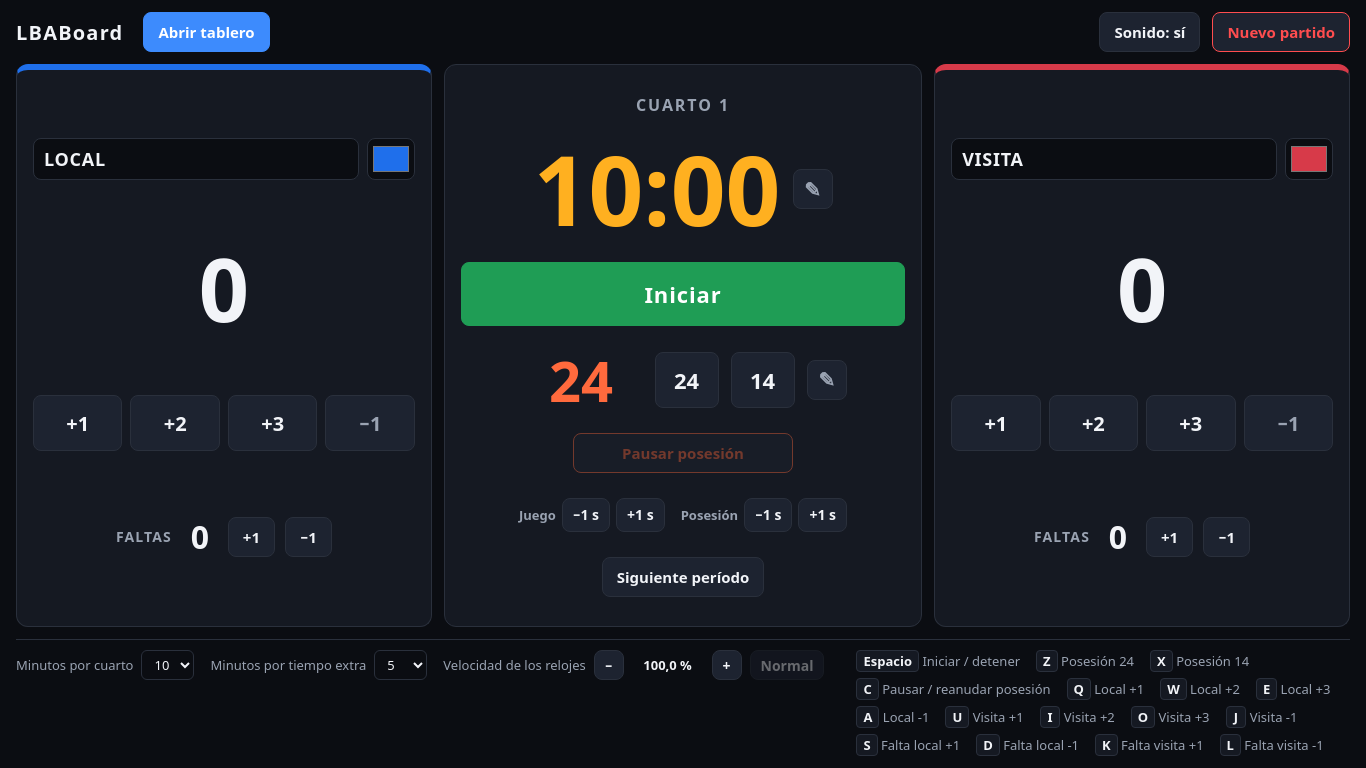
Test: Control › adjusts both clocks by a second only while stopped
The width and height of the screenshot is (1366, 768).
Click the button named "Juego −1 s": x=586, y=515 [562, 498, 610, 532]
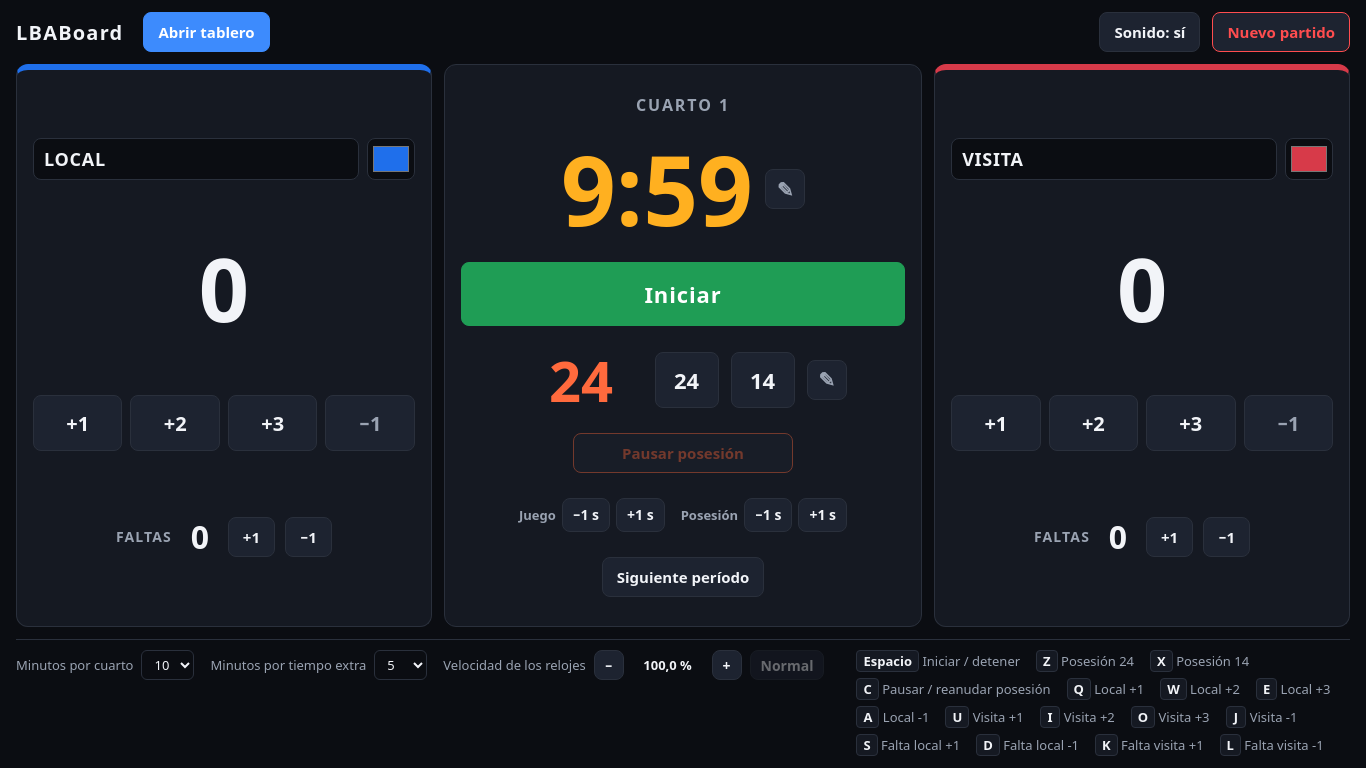
Check: the text "9:59" is shown, box [561, 141, 753, 237]
Click the button named "Posesión −1 s": x=768, y=515 [744, 498, 792, 532]
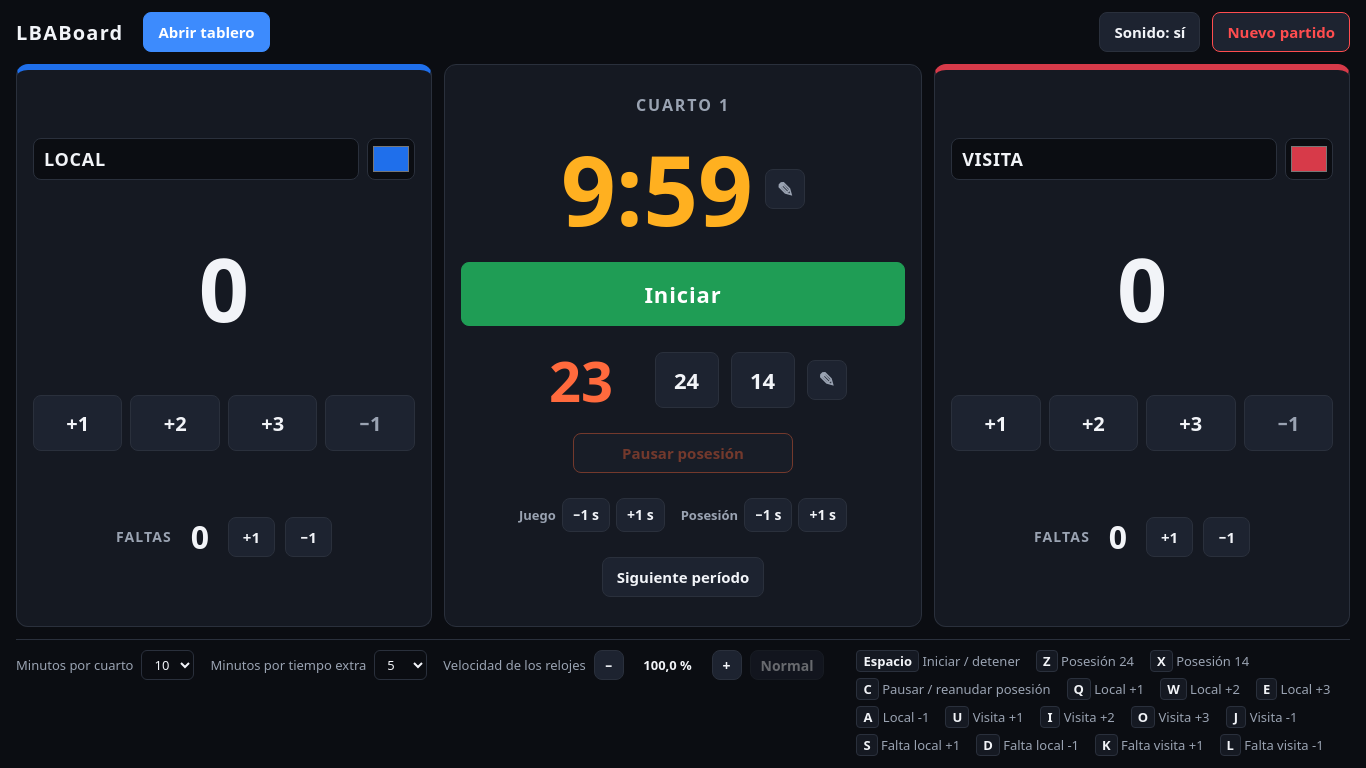
Check: the text with test id "shot-clock" reads "23", box [549, 342, 613, 418]
Click the button "Iniciar": x=683, y=294 [461, 262, 905, 326]
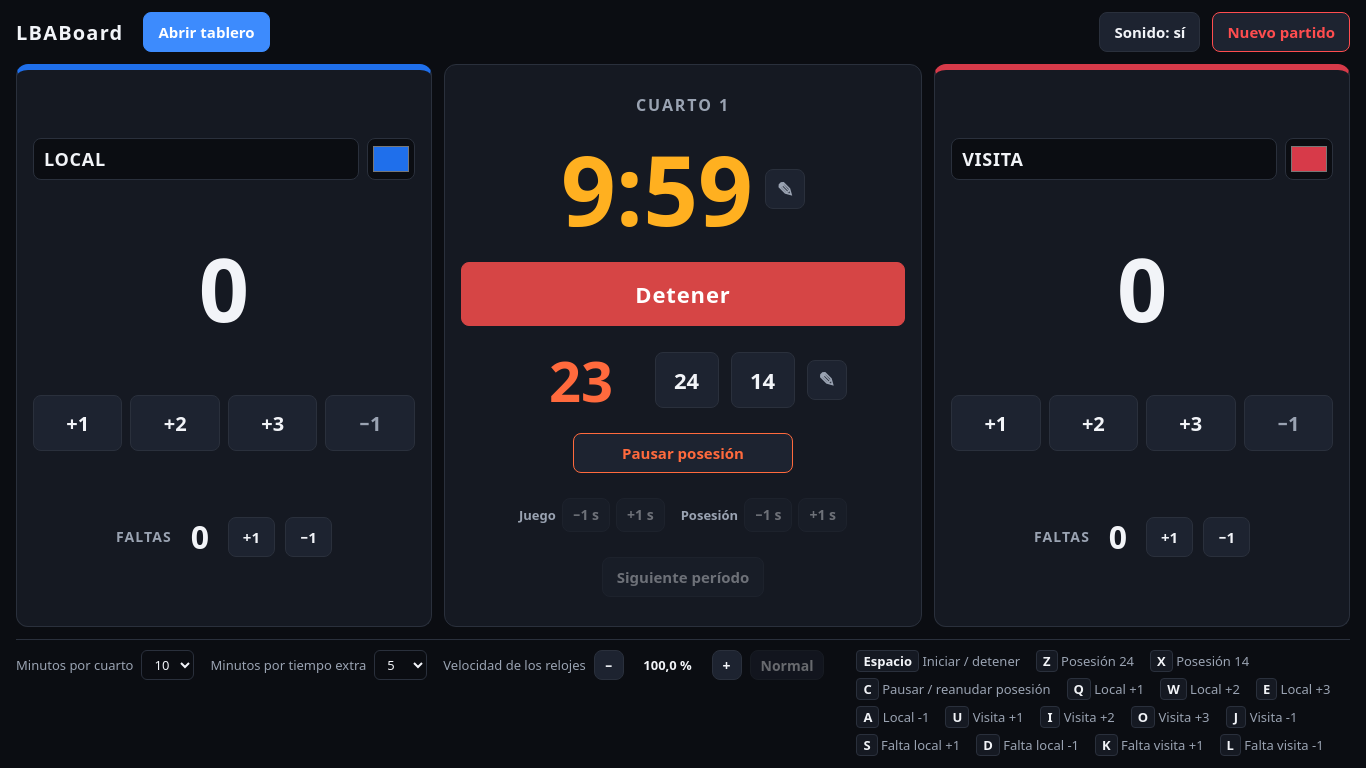
Check: the button named "Juego −1 s" is disabled, box [562, 498, 610, 532]
Check: the button named "Juego +1 s" is disabled, box [616, 498, 665, 532]
Check: the button named "Posesión −1 s" is disabled, box [744, 498, 792, 532]
